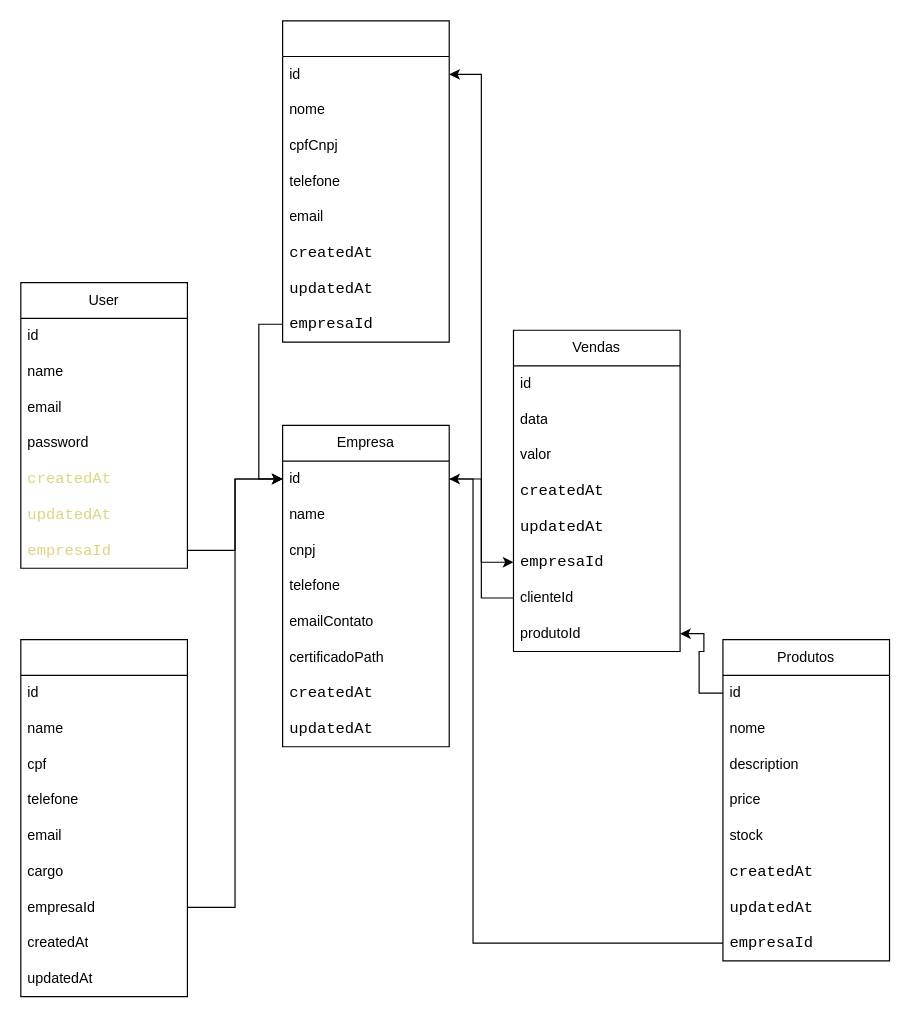
Some shapes in this 910 by 1017 pixel diagram are drawn without their labels. The shapes that lost their labels are listed below. From the top down, each one's box as (x1, y1, x2, y2) in pixels, then its label:
(281, 20, 449, 342): Clientes
(20, 638, 187, 997): Funcionario
